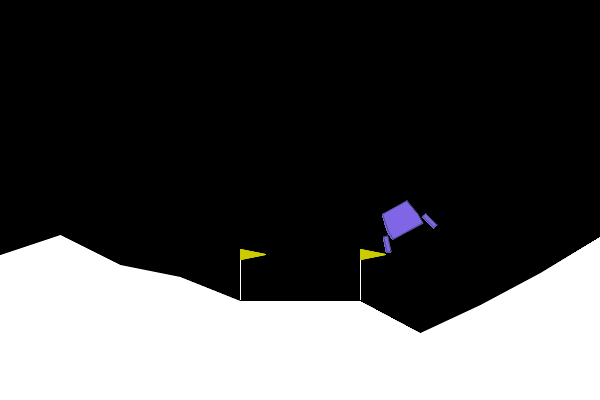lander: (367, 191, 439, 256)
